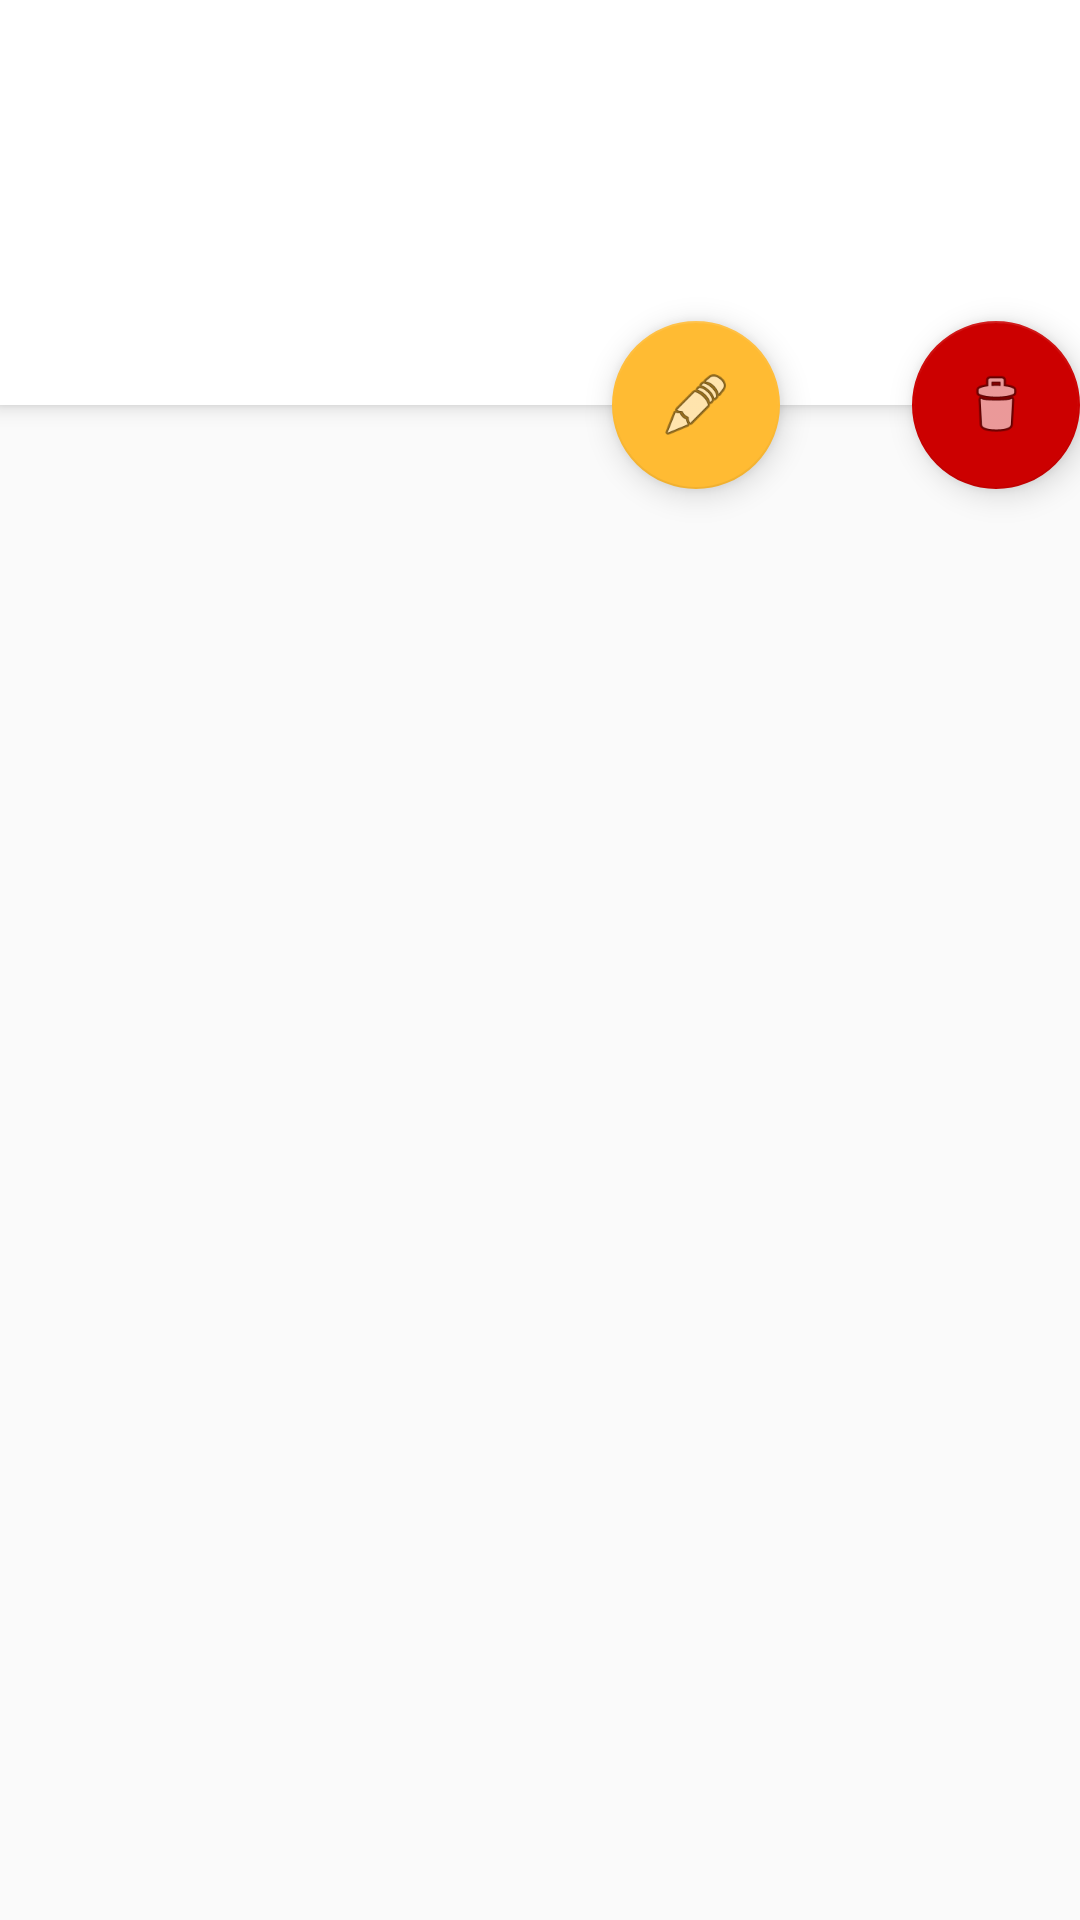

Where icons sit on this 1080 x 1920 app screen, as [left=x1, top=y1, right=x2, bottom=y2]:
delete: [left=912, top=321, right=1080, bottom=489]
edit: [left=612, top=321, right=780, bottom=489]
